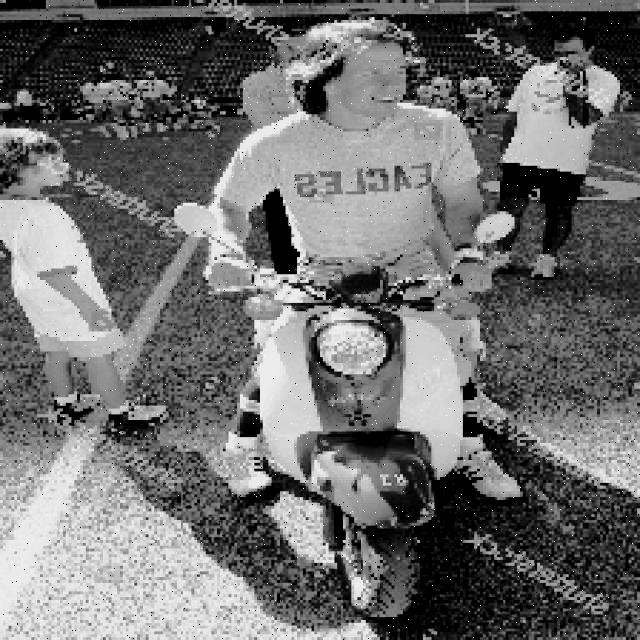Bike: (249, 269, 487, 617)
